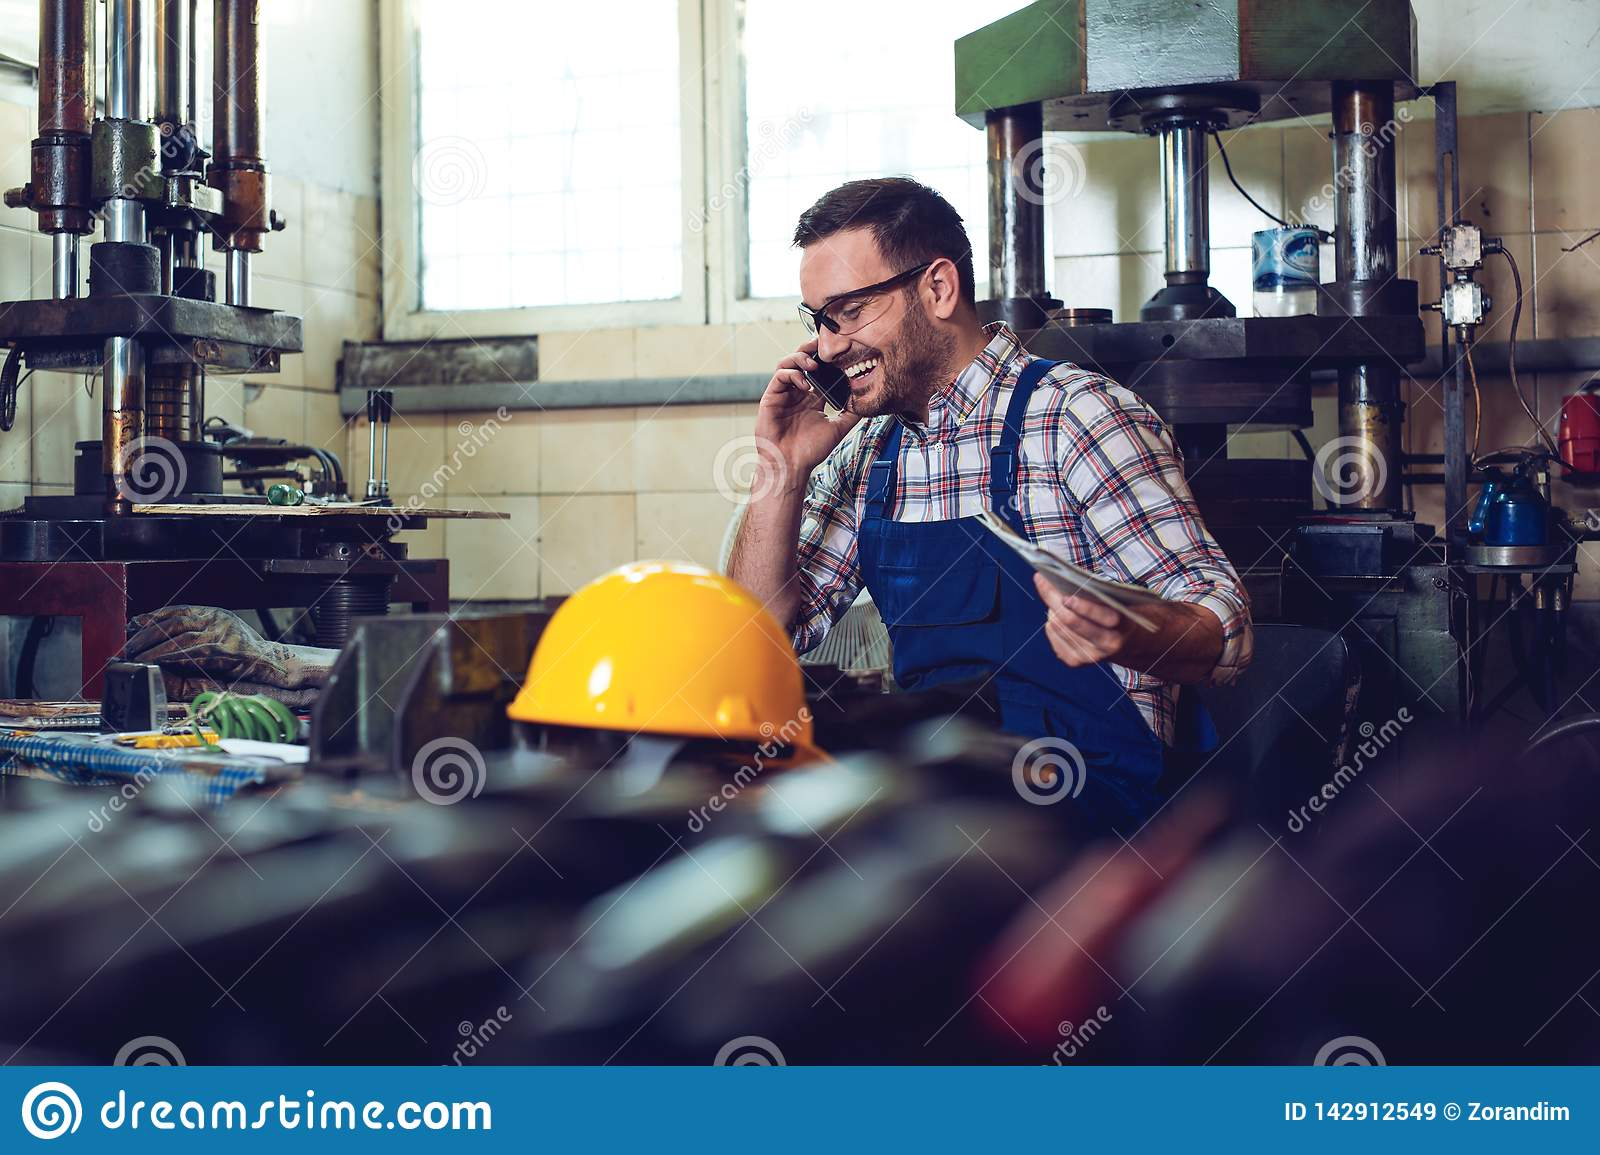phone: (801, 346, 853, 409)
talk: (757, 274, 894, 482)
